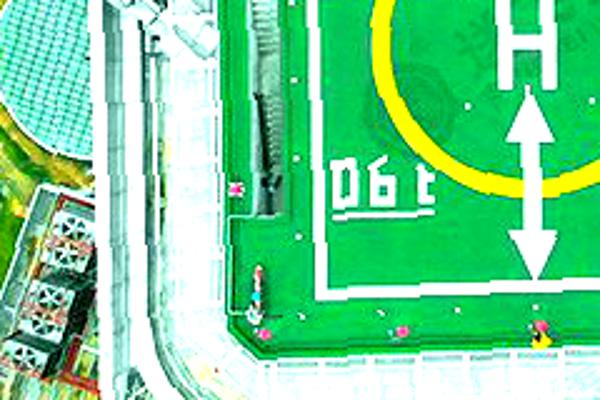Apron: (368, 1, 600, 203)
